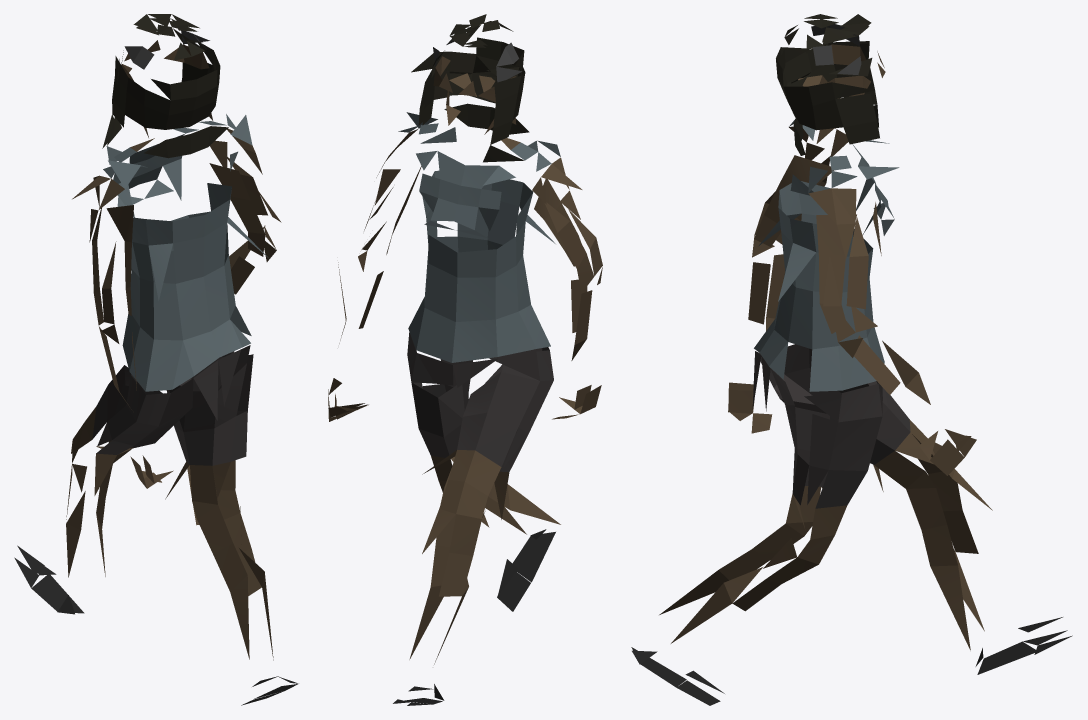
Rendered from personfar_5_w1.fbx.
3 renders of one model, left to right at view 1: azimuth 30°, elevation 25°; view 2: azimuth 150°, elevation 25°; view 3: azimuth 270°, elevation 25°, orthographic. The views are drawn at different scales.
Parts seen in each view (by area): view 1: BaseHuman.000; view 2: BaseHuman.000; view 3: BaseHuman.000.
Part boxes in pixels (x1=…): BaseHuman.000: x1=14, y1=14, x2=298, y2=705; BaseHuman.000: x1=328, y1=14, x2=602, y2=705; BaseHuman.000: x1=631, y1=14, x2=1072, y2=705.
Bounding box in the file's own units: 0.3516 × 0.9719 × 0.5787.
